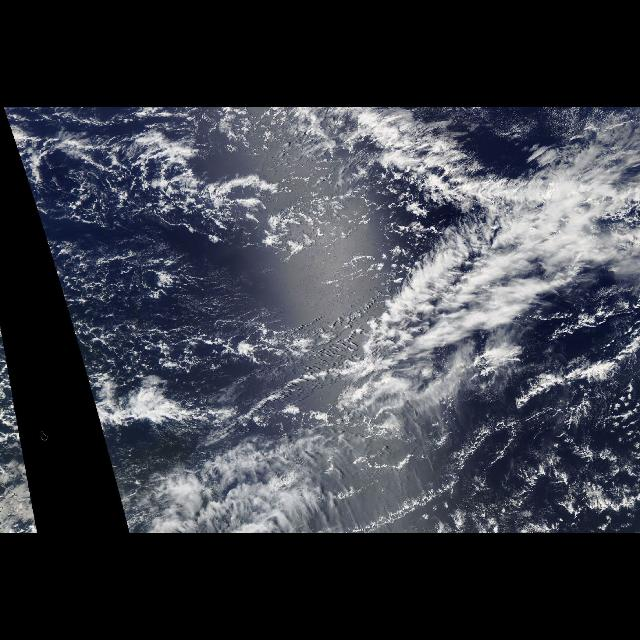Gravel: (2, 108, 314, 378), (400, 329, 640, 533), (0, 317, 12, 375)
